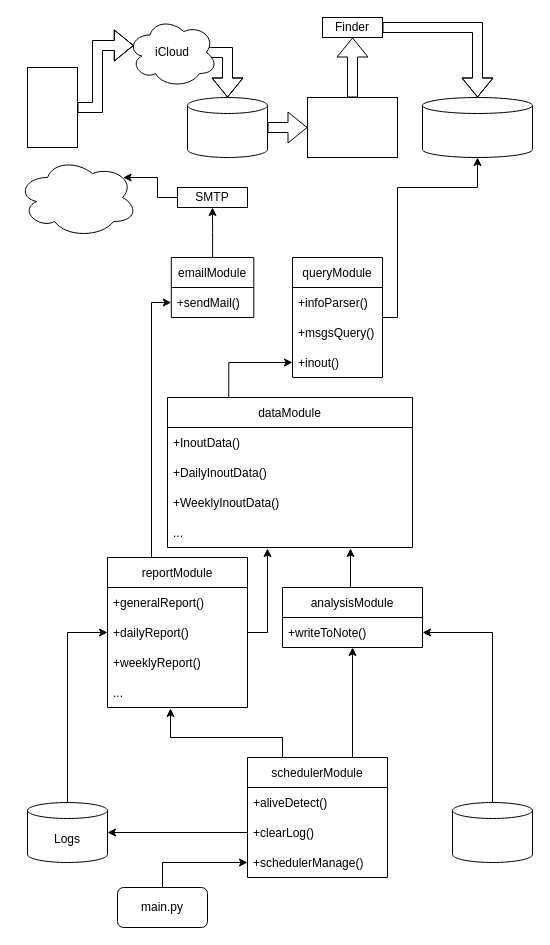
This 550x945 diagram has some shape labels left out. The shapes that lost their labels are listed below. From the top down, each one's centre as x and y in pixels, then its label:
At [52,107]: "iPhone".
At [227,127]: "Mac iMessage original db".
At [352,127]: "refreshChatDB Applescript".
At [477,127]: "Mac iMessage duplicate db".
At [77,197]: "Email Service Provider".
At [492,832]: "anlysisData".
